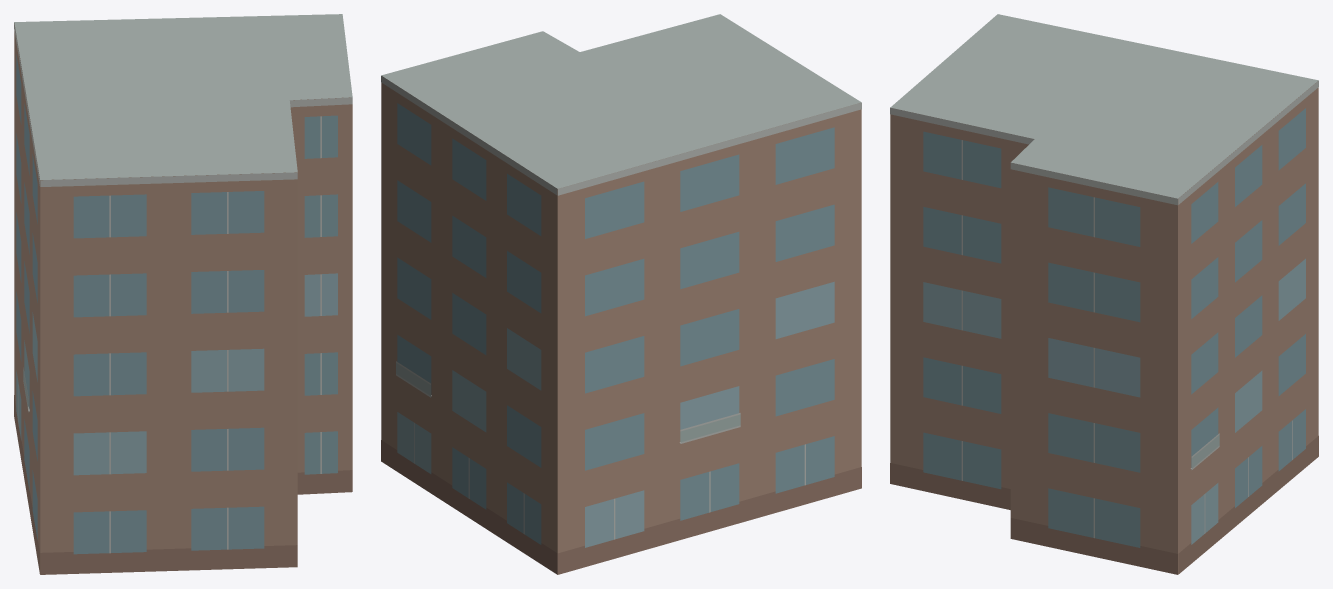
The model's file is survey-upis-32887877.glb.
3 renders of one model, left to right at view 1: azimuth 30°, elevation 25°; view 2: azimuth 150°, elevation 25°; view 3: azimuth 270°, elevation 25°, orthographic. The views are drawn at different scales.
Visible parts, largest first — view 1: survey-upis-32887877.tmp; view 2: survey-upis-32887877.tmp; view 3: survey-upis-32887877.tmp.
Boxes of the visible parts, x1,y1,x2,y2 form: survey-upis-32887877.tmp: [14, 14, 352, 574]; survey-upis-32887877.tmp: [381, 14, 861, 574]; survey-upis-32887877.tmp: [890, 14, 1318, 574].
Bounding box in the file's own units: 14.43 × 13.7 × 14.16.
